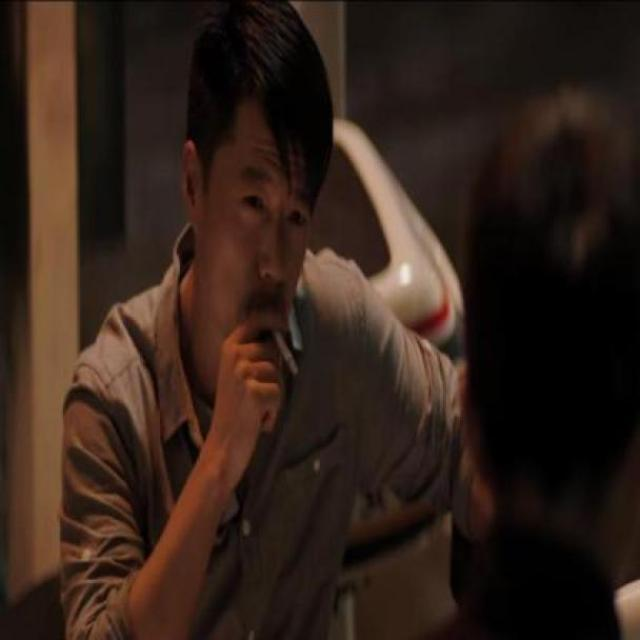rokok: (273, 327, 305, 381)
